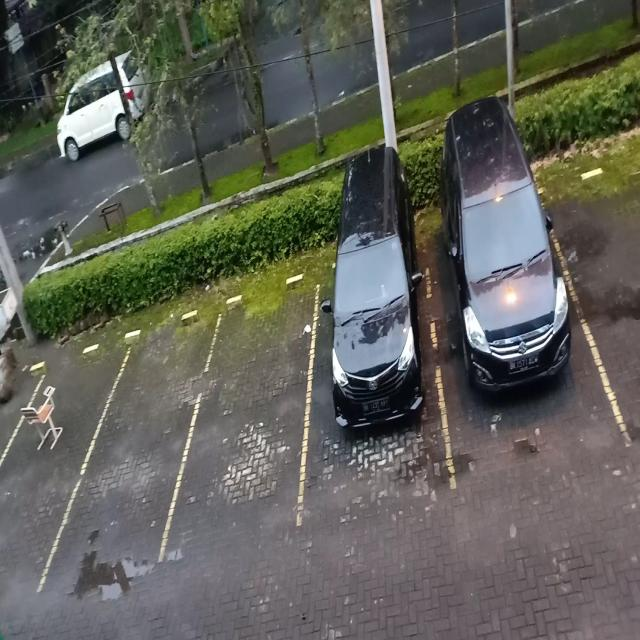empty: (200, 274, 316, 546), (89, 307, 196, 562)
occupied: (439, 168, 589, 497), (308, 224, 444, 524)
